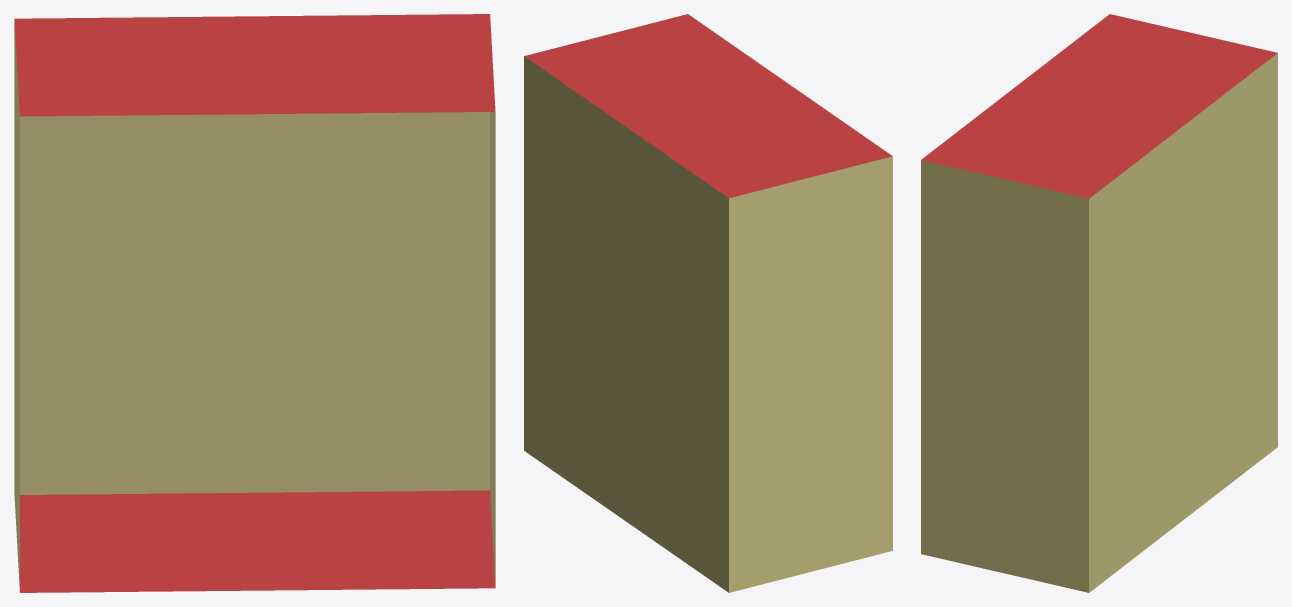
3 views of the same model, side by side, from view 1: azimuth 30°, elevation 25°; view 2: azimuth 150°, elevation 25°; view 3: azimuth 270°, elevation 25° (orthographic). The views are drawn at different scales.
Parts seen in each view (by area): view 1: group_4, group_3, group_5; view 2: group_4, group_3; view 3: group_4, group_3.
Part boxes in pixels (<box>): group_4: <box>14,19,495,591</box>; group_3: <box>14,14,495,116</box>; group_5: <box>20,490,495,592</box>; group_4: <box>524,56,892,592</box>; group_3: <box>524,14,892,198</box>; group_4: <box>921,53,1277,592</box>; group_3: <box>921,14,1277,198</box>.
Size of the model in its own units: 6.7 by 5.47 by 6.67.
